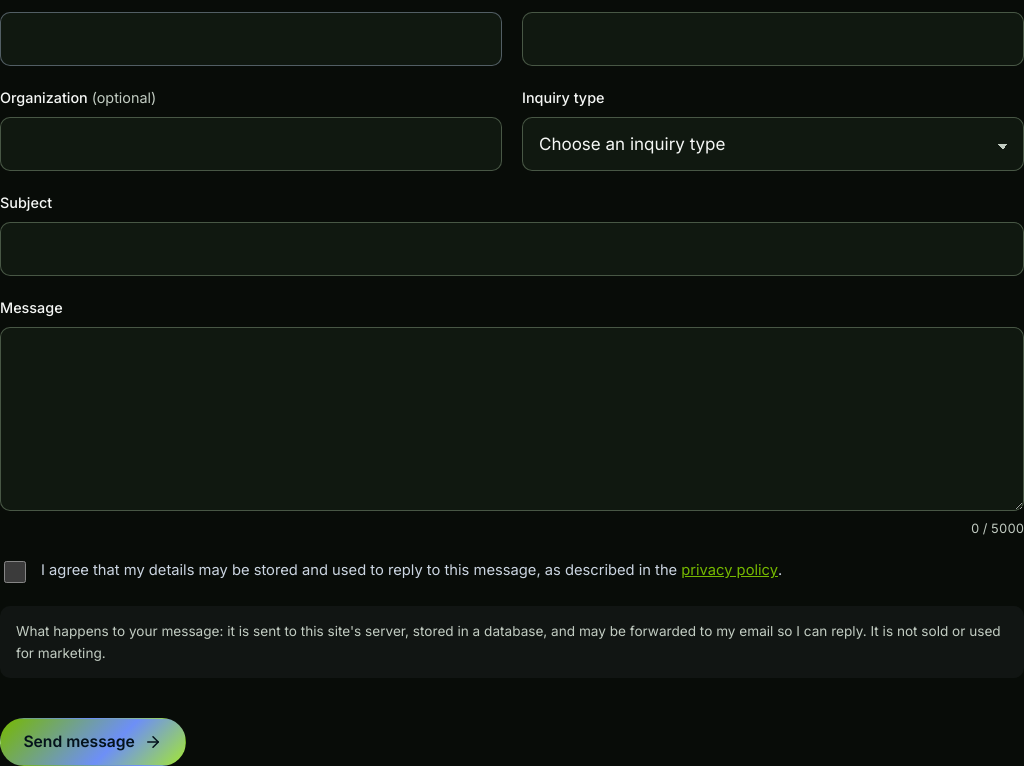
Test: ContactForm validation › blocks an empty submission, shows an error per required field and never calls the API
(page scrolled)
Click the button "Send message" at (93, 742), box x1=0 y1=718 x2=186 y2=765
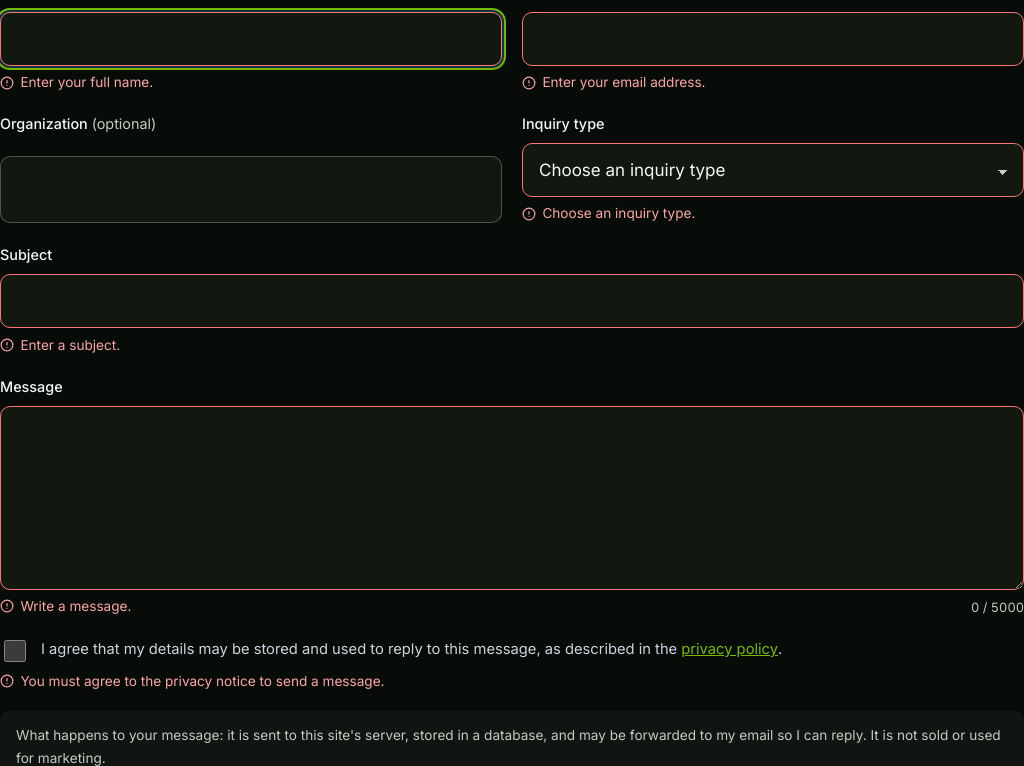
Expected: the text "Enter your full name." is shown, x1=20 y1=73 x2=153 y2=92
Expected: the text "Enter your email address." is shown, x1=542 y1=73 x2=706 y2=92
Expected: the text "Choose an inquiry type." is shown, x1=542 y1=204 x2=695 y2=223
